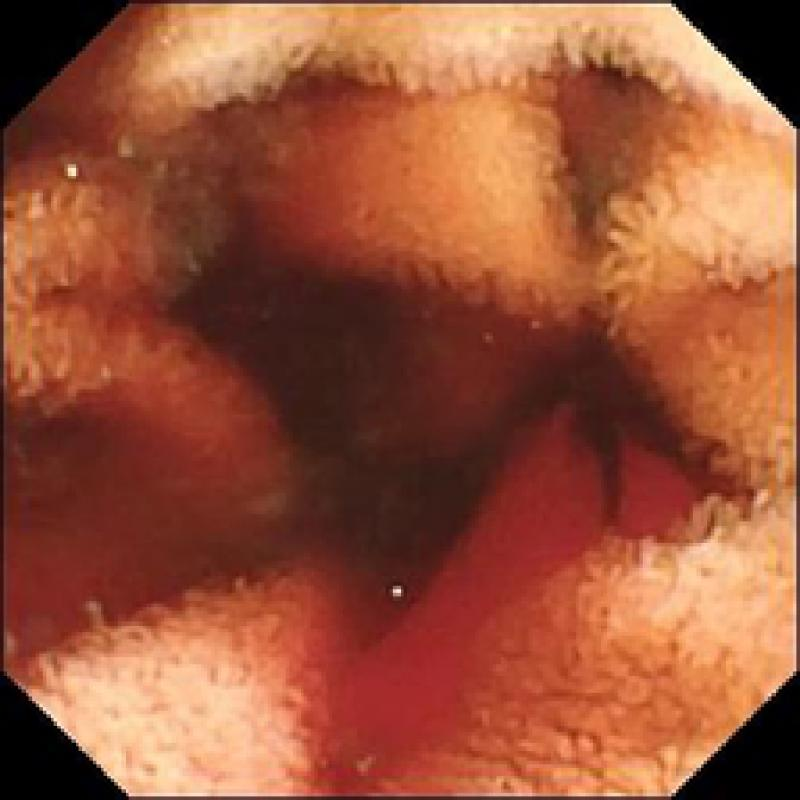bleeding: (307, 396, 689, 768), (6, 437, 243, 629)
